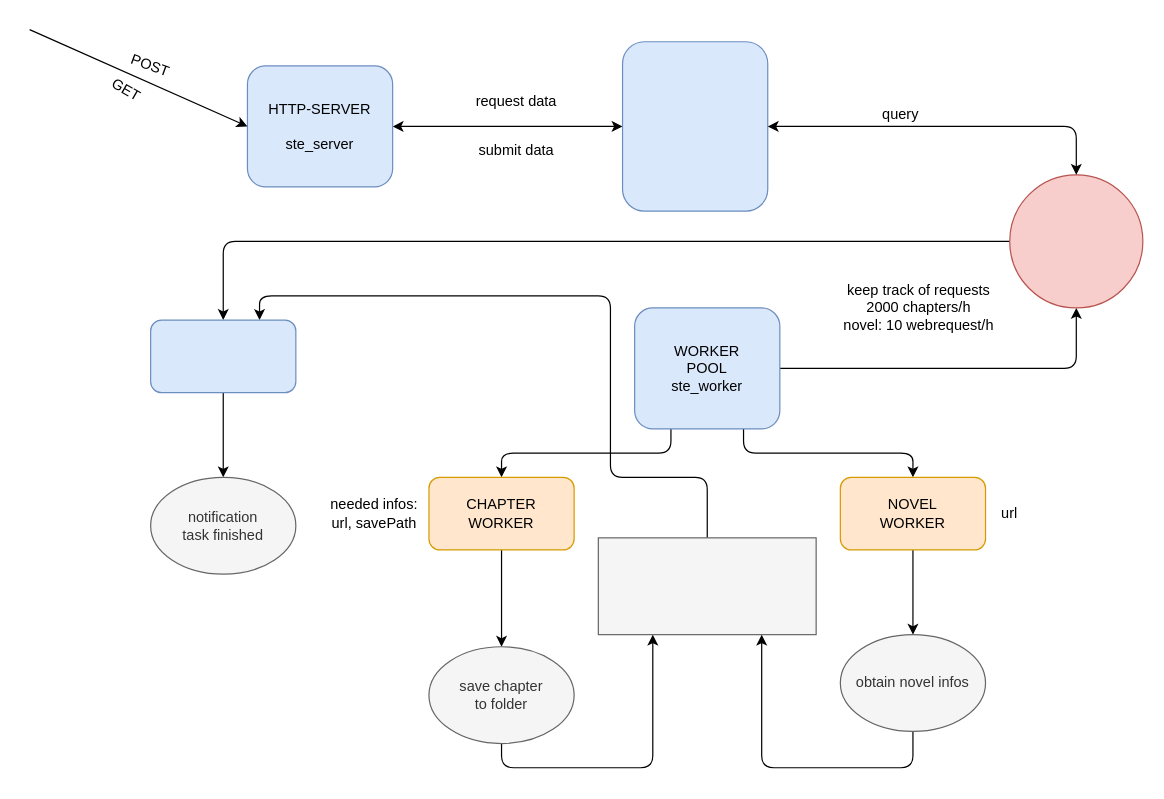
This 1164x799 diagram has some shape labels left out. The shapes that lost their labels are listed below. From the top down, each one's centre as x and y in pixels, then its label:
At point (694, 126): "GOLANG BACKEND delegate tasks ste_server".
At point (1076, 241): "POSTGRESQL DB".
At point (222, 356): "MAIL SERVICE ste_mail".
At point (706, 586): "report result to POOL or commit to DB???".
